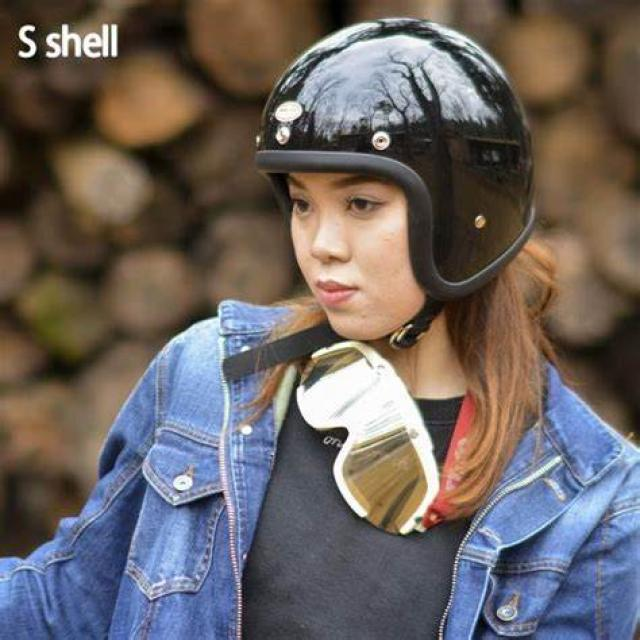helmet: (246, 9, 541, 357)
